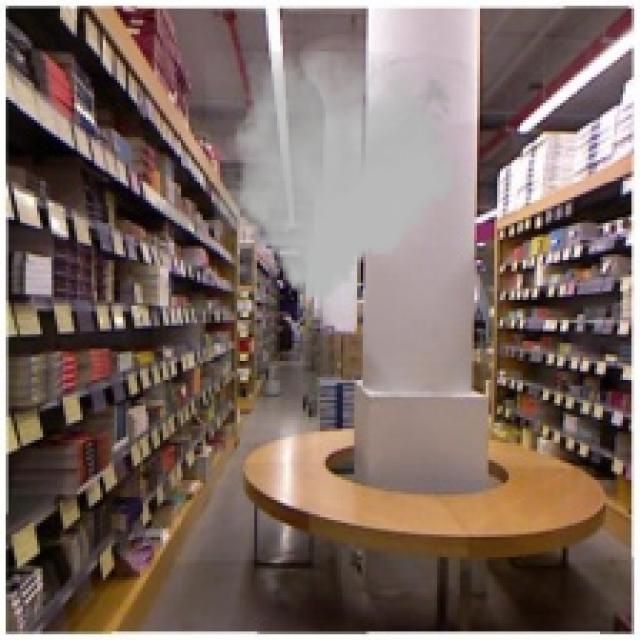smoke: (206, 51, 460, 300)
